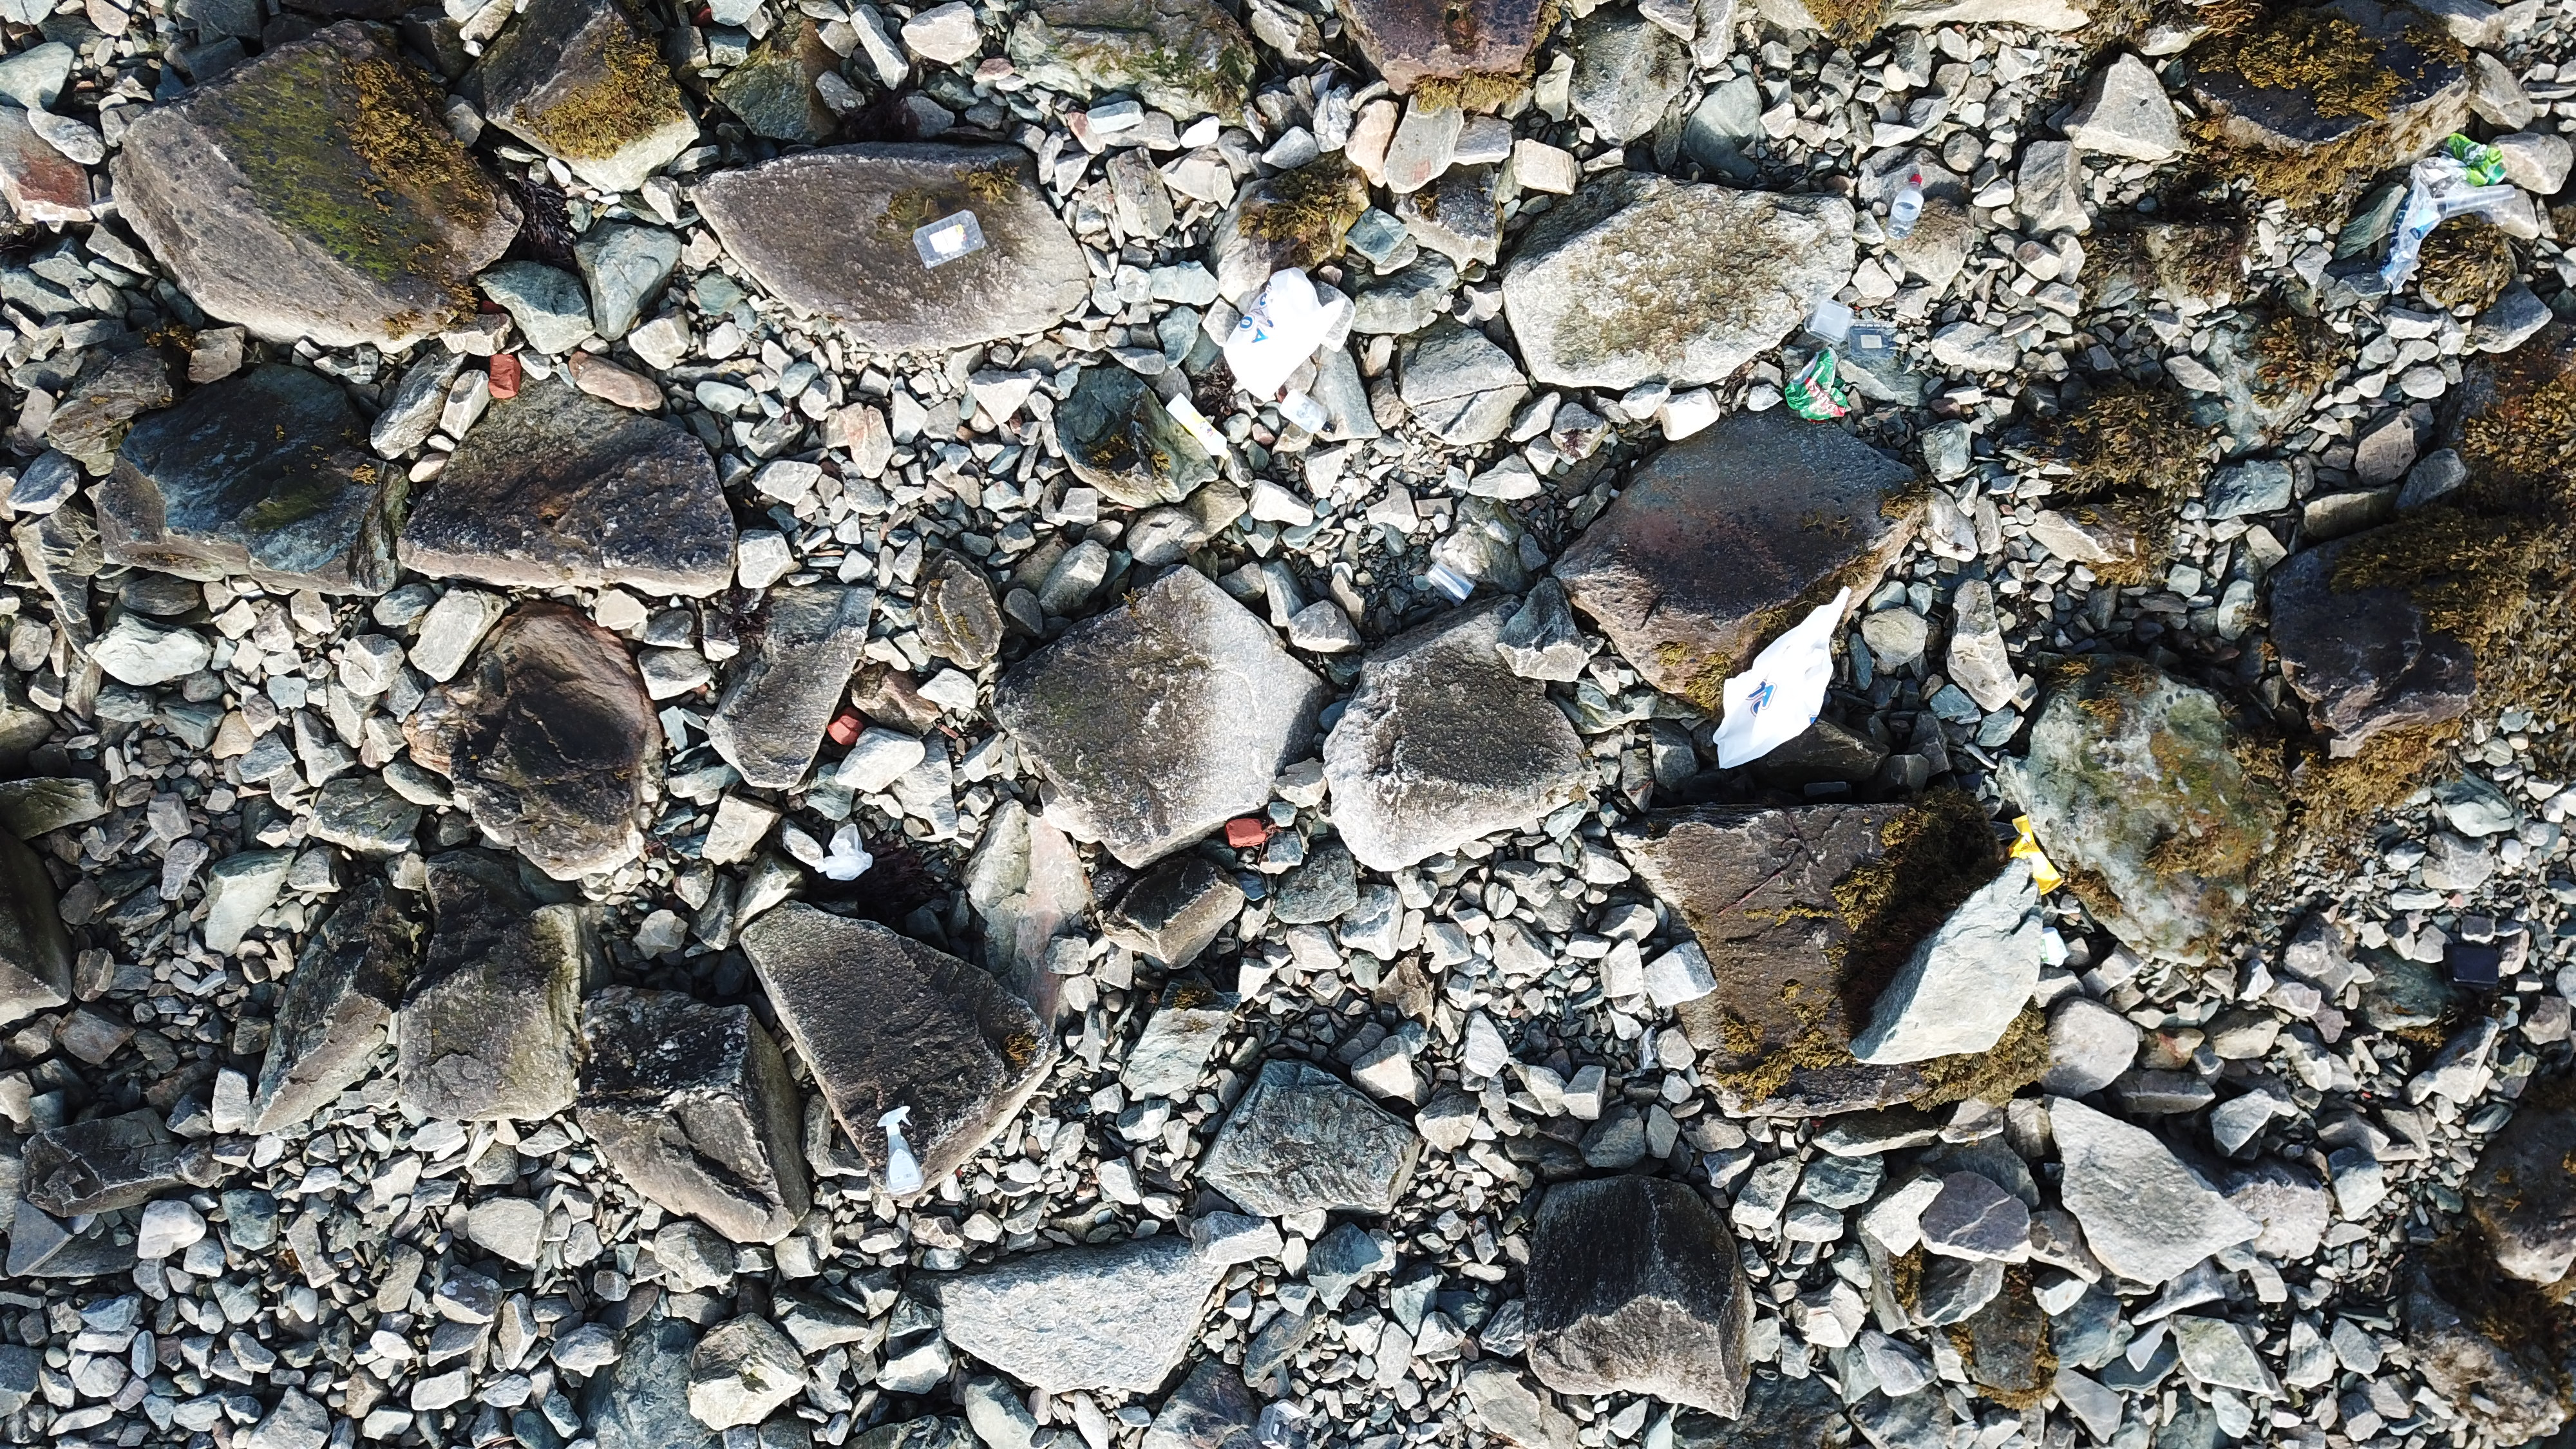Can: (2488, 165, 2511, 184)
Plastic: (1711, 586, 1851, 771), (1223, 265, 1343, 402), (2380, 163, 2443, 295), (1787, 347, 1856, 419), (913, 211, 991, 271), (1166, 393, 1233, 462), (878, 1108, 922, 1192), (2442, 133, 2502, 188), (824, 821, 878, 881), (2434, 184, 2518, 221), (1260, 1401, 1316, 1449), (1801, 295, 1854, 345), (2443, 943, 2500, 989), (1845, 318, 1902, 363), (1279, 387, 1329, 435), (1430, 564, 1476, 609), (2411, 156, 2452, 182)
PlasticBottle: (1890, 170, 1923, 242)
